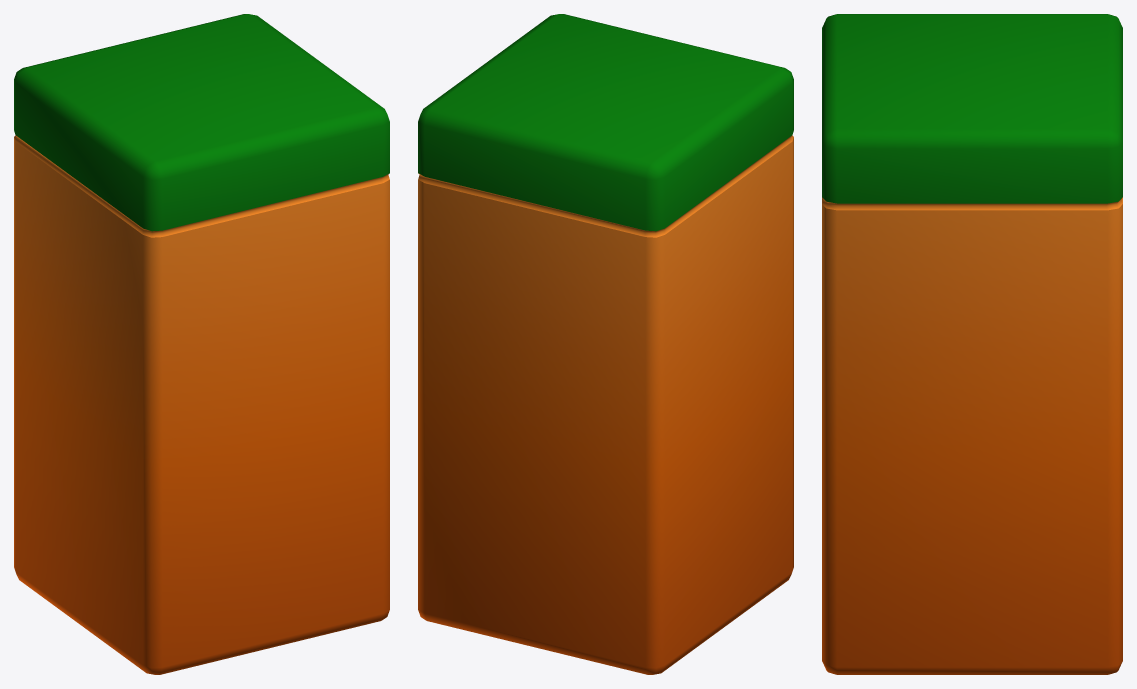
The model's file is 3D_Tile_Ground_01v02x2.fbx.
3 views of the same model, side by side, from view 1: azimuth 30°, elevation 25°; view 2: azimuth 150°, elevation 25°; view 3: azimuth 270°, elevation 25° (orthographic). The views are drawn at different scales.
Visible parts, largest first — view 1: 3D_Tile_Ground_01v02x2; view 2: 3D_Tile_Ground_01v02x2; view 3: 3D_Tile_Ground_01v02x2.
Boxes of the visible parts, x1=… form: 3D_Tile_Ground_01v02x2: x1=14, y1=14, x2=389, y2=674; 3D_Tile_Ground_01v02x2: x1=418, y1=14, x2=793, y2=674; 3D_Tile_Ground_01v02x2: x1=822, y1=14, x2=1122, y2=674.
Size of the model in its own units: 200 by 400 by 200.
